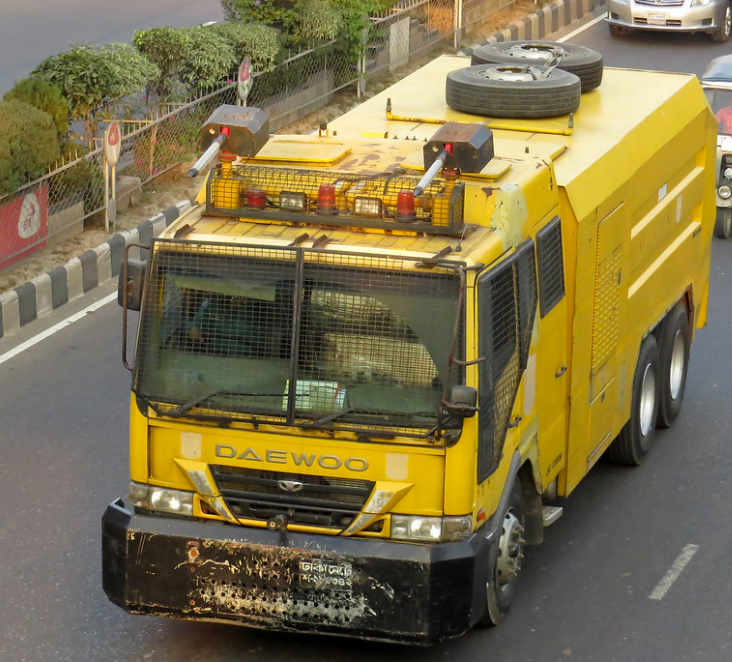Police cars: (85, 37, 701, 628)
cng: (701, 30, 732, 251)
private car: (601, 0, 732, 40)
